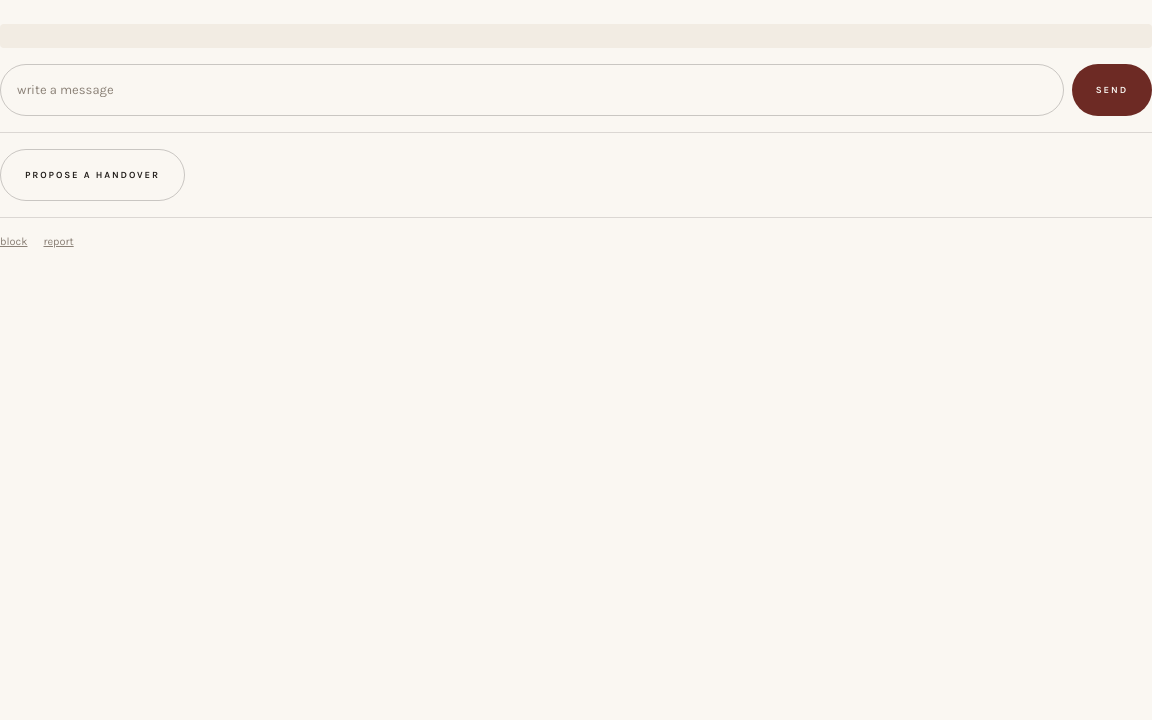
ThreadView block and report › opens a real dialog for block, not window.confirm
This screenshot has width=1152, height=720.
Click the button "block". click: (14, 242)
box: top-left (0, 234), bottom-right (28, 250)
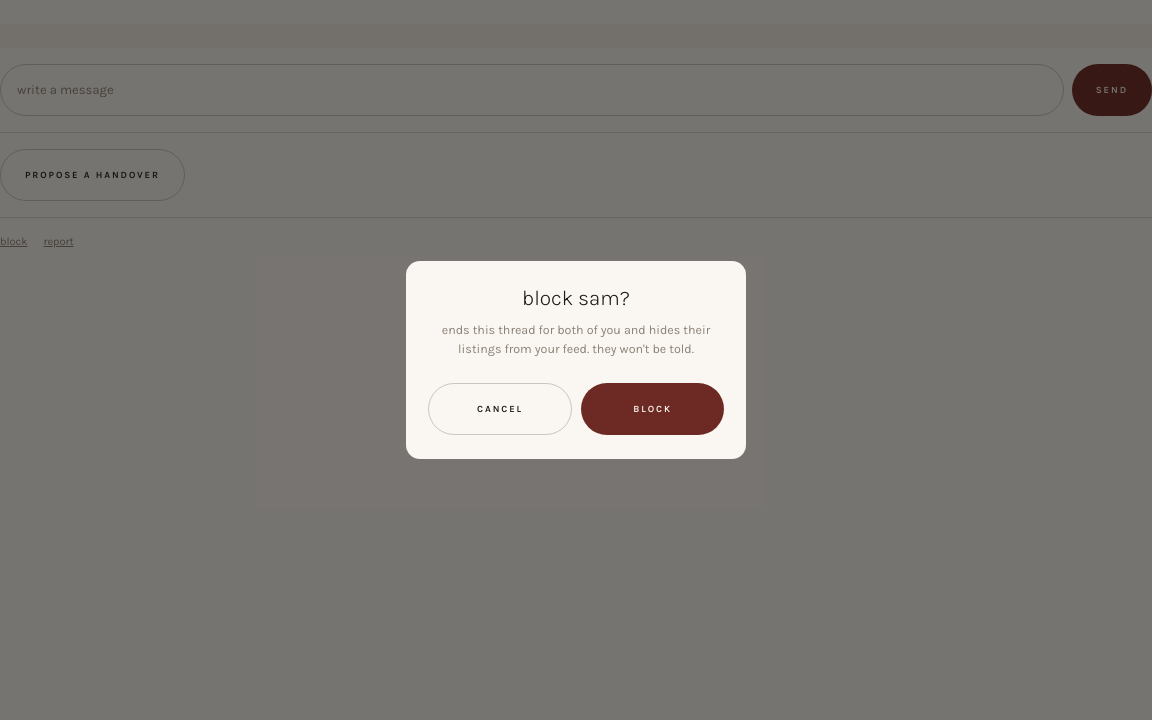
Check: the text "block sam?" is shown, box top-left (522, 286), bottom-right (630, 310)
